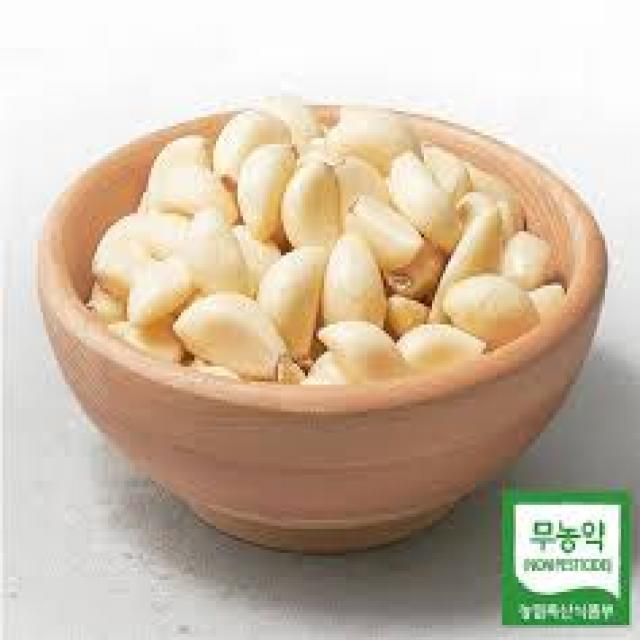garlic: (146, 123, 413, 343), (222, 159, 476, 358)
